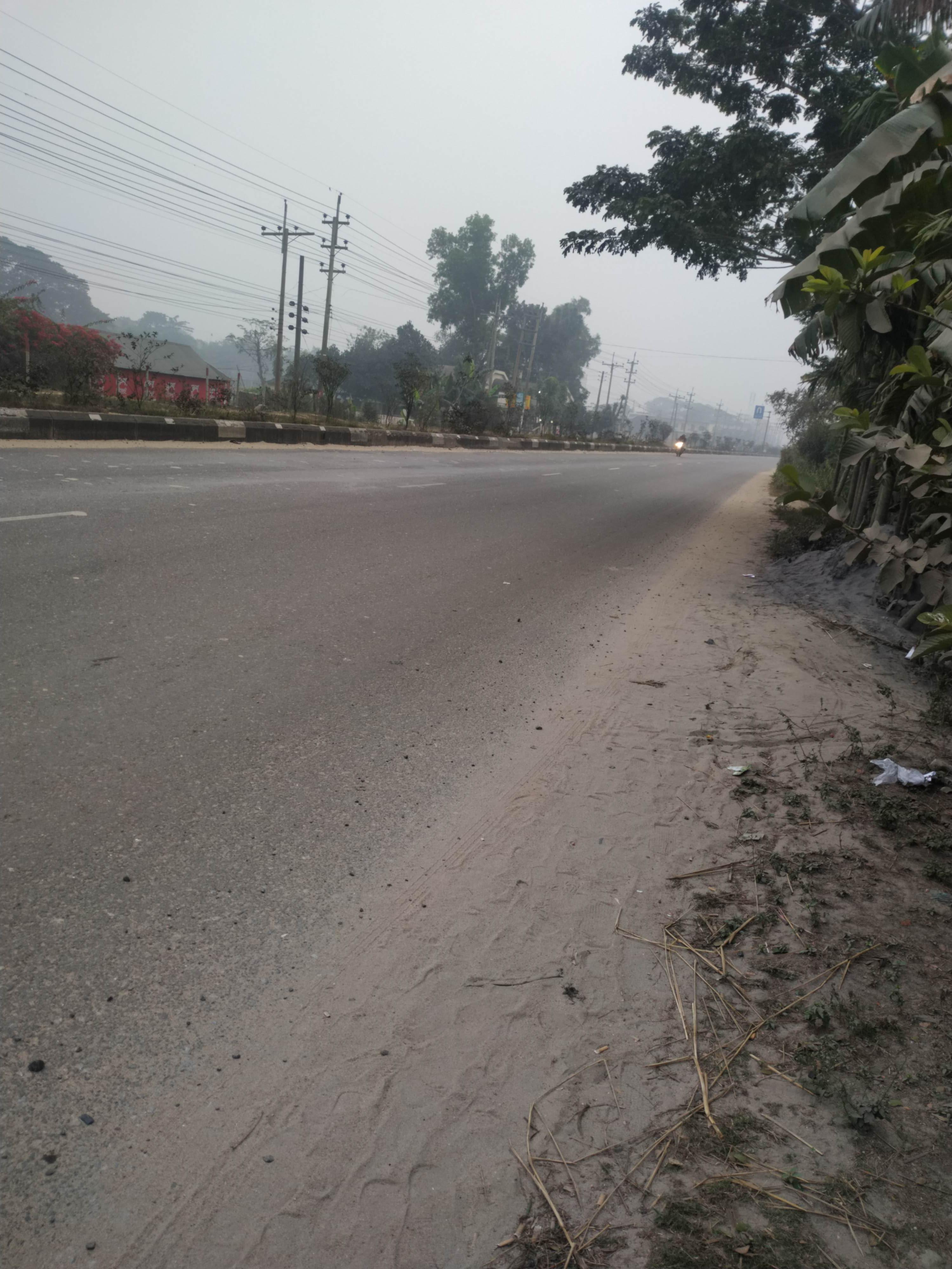Bike: (664, 419, 699, 476)
